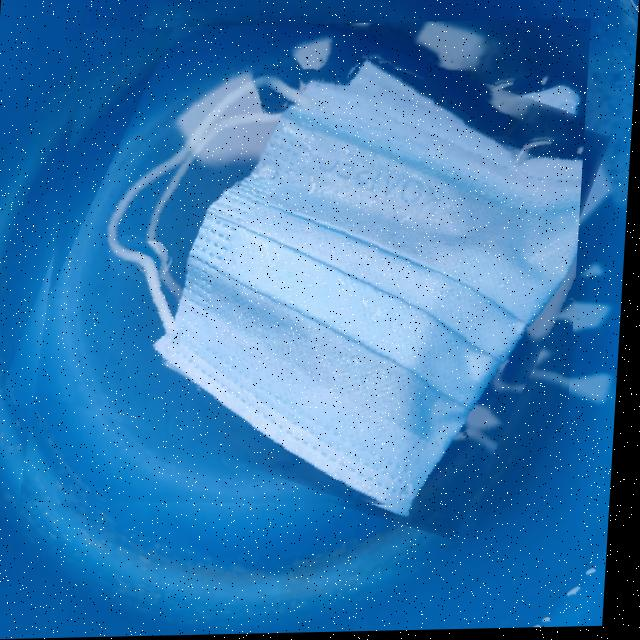litter: (24, 21, 591, 518)
